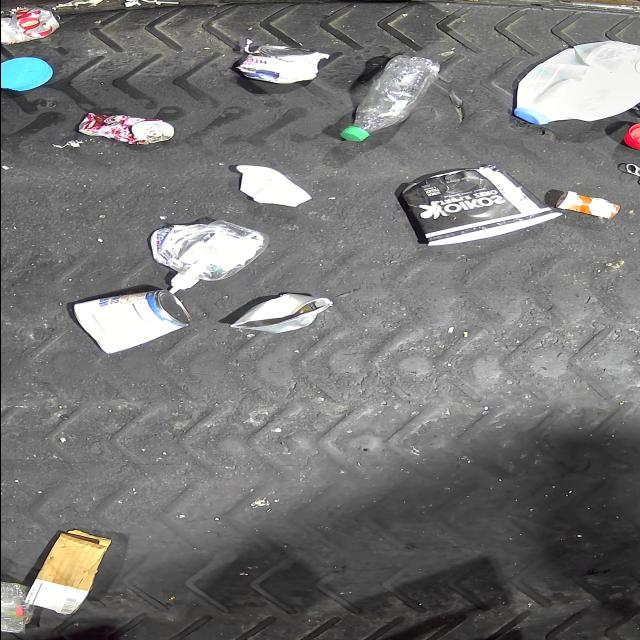can: (70, 288, 190, 354), (229, 291, 334, 333), (76, 111, 175, 145), (238, 46, 322, 83), (0, 4, 63, 44)
milk_jug: (514, 40, 640, 124)
plastic_bottle: (339, 56, 441, 142)
